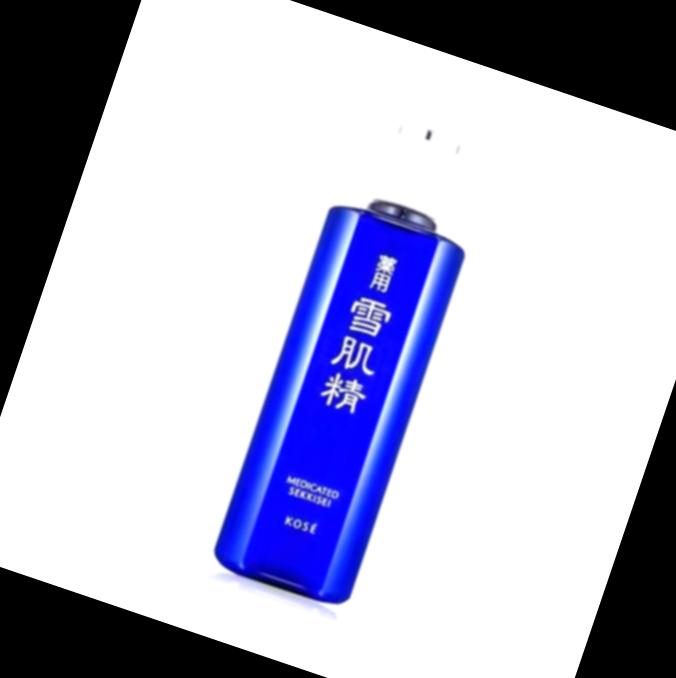cosmetic: (205, 110, 506, 614)
